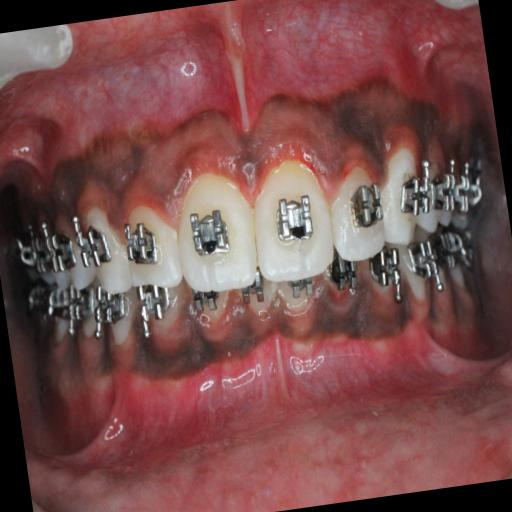correct_brace: (187, 205, 233, 264), (272, 188, 318, 247), (394, 163, 433, 221), (346, 178, 386, 232), (122, 219, 156, 268)
incorrect_brace: (323, 159, 385, 261), (120, 205, 182, 291)
